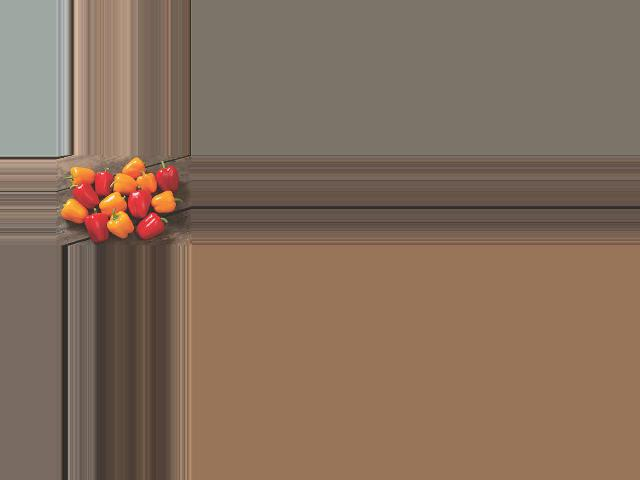bell_pepper: (60, 198, 95, 228)
